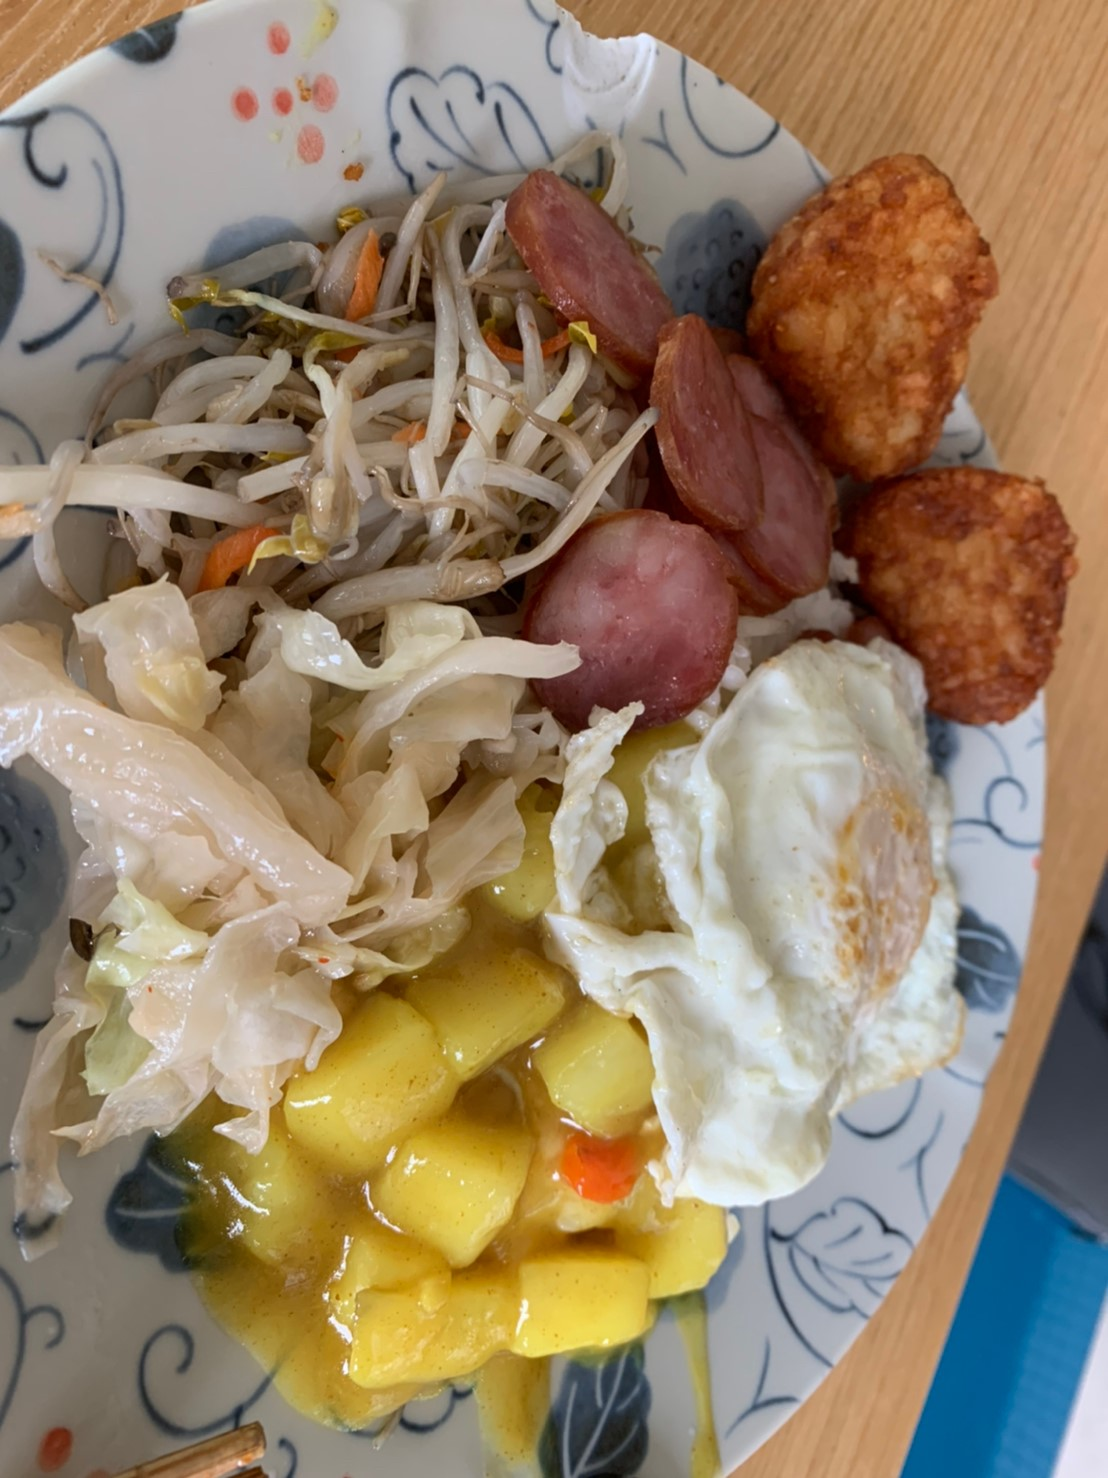chinese_cabbage: (61, 605, 455, 1106)
chinese_sausage: (526, 202, 815, 701)
curry: (216, 1009, 694, 1397)
fried_eggs: (582, 634, 970, 1225)
mung_bean_sprouts: (147, 220, 523, 589)
triangle_hash_brown: (747, 149, 1075, 729)
